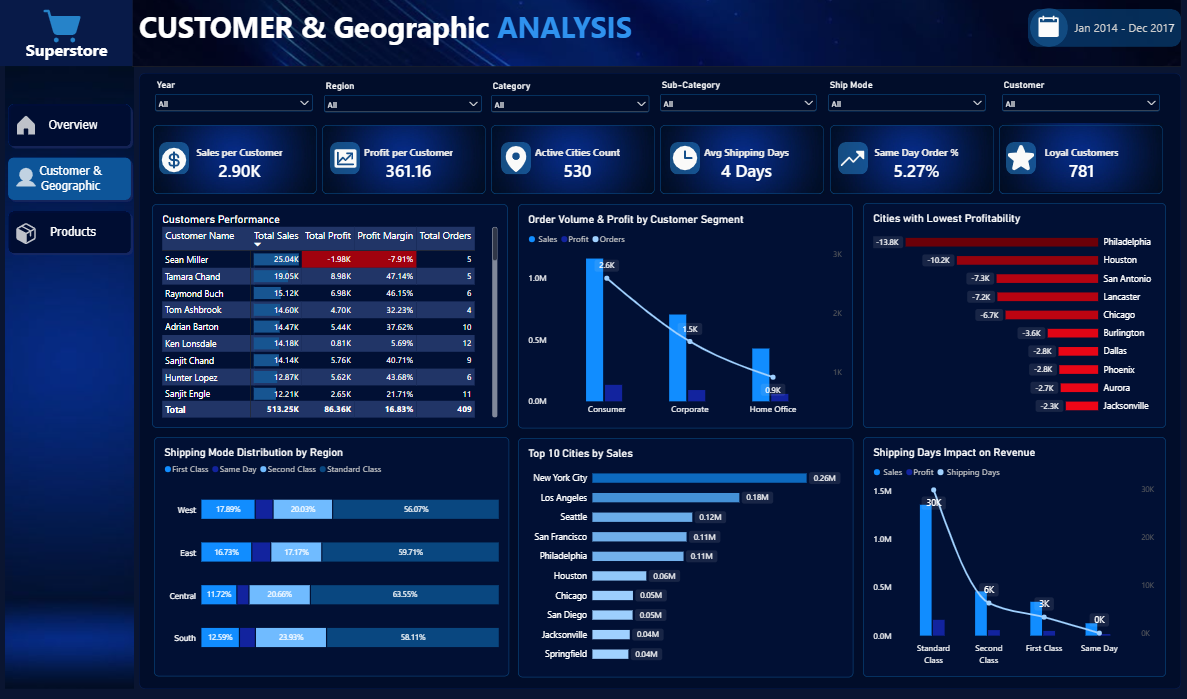

This screenshot's page, from the dashboard's own definition file:
{"tool":"powerbi","page":{"name":"Customer & Geographic","canvas":[1980,1170],"ordinal":1},"visuals":[{"type":"image","box":[7.8,112.3,215.1,1038.3],"z":0},{"type":"shape","box":[231.7,123.3,1736.7,1026.7],"z":1000},{"type":"image","box":[1102.3,210.5,273,115],"z":2000},{"type":"image","box":[1665.1,207.4,273,115],"z":3000},{"type":"image","box":[818.5,210.5,273,115],"z":4000},{"type":"image","box":[1382.9,210.5,273,115],"z":5000},{"type":"image","box":[536.3,210.5,273,115],"z":6000},{"type":"image","box":[255.7,210.5,273,115],"z":7000},{"type":"pageNavigator","box":[8.6,170,215.1,261.9],"z":8000},{"type":"image","box":[220.4,0,1748.6,112.6],"z":9000},{"type":"textbox","box":[231.4,12.7,825.9,111],"z":10000},{"type":"shape","box":[0,0,220.8,111.8],"z":11000},{"type":"textbox","box":[36.7,67.2,148.9,44.1],"z":12000},{"type":"image","box":[22.9,12.2,162,67.2],"z":13000},{"type":"shape","box":[1713.7,15.9,255.2,63.4],"z":14000},{"type":"shape","box":[1716.8,14.3,63.4,65],"z":15000},{"type":"image","box":[1710.5,25.4,74.9,44.3],"z":16000},{"type":"slicer","fields":{"Values":["Dim_Products.Category"]},"box":[813.2,134.7,274.3,65],"z":17000},{"type":"slicer","fields":{"Values":["Dim_Customers.Customer Name"]},"box":[1664.5,133.2,272.7,66.6],"z":18000},{"type":"slicer","fields":{"Values":["Dim_Location.Region"]},"box":[534.2,134.7,272.7,65],"z":19000},{"type":"slicer","fields":{"Values":["Dim_ShipMode.Ship Mode"]},"box":[1374.4,133.2,272.7,66.6],"z":20000},{"type":"slicer","fields":{"Values":["Dim_Products.Sub-Category"]},"box":[1095.4,133.2,271.1,66.6],"z":21000},{"type":"cardVisual","fields":{"Data":["Measures_Table.Sales per Customer"]},"box":[255.2,209.8,273,115.7],"z":22000},{"type":"cardVisual","fields":{"Data":["Measures_Table.Active Cities Count"]},"box":[818.9,210.1,273,115],"z":23000},{"type":"cardVisual","fields":{"Data":["Measures_Table.Profit per Customer"]},"box":[537.1,210,273,115],"z":24000},{"type":"cardVisual","fields":{"Data":["Measures_Table.Avg Shipping Days"]},"box":[1100.8,210.3,273,115],"z":25000},{"type":"cardVisual","fields":{"Data":["Measures_Table.Same Day Order %"]},"box":[1382.7,210.4,273,115],"z":26000},{"type":"cardVisual","fields":{"Data":["Measures_Table.Loyal Customers"]},"box":[1664.5,209.3,273,115.7],"z":27000},{"type":"slicer","fields":{"Values":["Dim_Date.Year"]},"box":[253.6,133.2,272.7,66.6],"z":28000},{"type":"pivotTable","title":"Customers Performance","fields":{"Rows":["Dim_Customers.Customer Name"],"Values":["Measures_Table.Total Sales","Measures_Table.Total Profit","Measures_Table.Profit Margin","Measures_Table.Total Orders"]},"box":[253.3,341.4,593.4,373.4],"z":29000},{"type":"clusteredBarChart","title":"Top 10 Cities by Sales","fields":{"Category":["Dim_Location.City"],"Y":["Measures_Table.Total Sales"]},"box":[863.8,731.1,558.8,398.9],"z":30000},{"type":"textbox","box":[1780.3,34.9,188.6,36.5],"z":31000},{"type":"clusteredBarChart","title":"Cities with Lowest Profitability","fields":{"Category":["Dim_Location.City"],"Y":["Measures_Table.Total Profit"]},"box":[1438.3,339.8,504.9,375.3],"z":32000},{"type":"hundredPercentStackedBarChart","title":"Shipping Mode Distribution by Region","fields":{"Category":["Dim_Location.Region"],"Series":["Dim_ShipMode.Ship Mode"],"Y":["Measures_Table.Total Sales"]},"box":[256.5,730.8,591.6,399.3],"z":33000},{"type":"lineClusteredColumnComboChart","title":"Shipping Days Impact on Revenue ","fields":{"Category":["Dim_ShipMode.Ship Mode"],"Y":["Measures_Table.Total Sales","Measures_Table.Total Profit"],"Y2":["Sum(Fact_SuperStore_Data.Shipping Days)"]},"box":[1438.2,729.9,504.7,400.1],"z":34000},{"type":"lineClusteredColumnComboChart","title":"Order Volume & Profit by Customer Segment","fields":{"Category":["Dim_Customers.Segment"],"Y":["Measures_Table.Total Sales","Measures_Table.Total Profit"],"Y2":["Measures_Table.Total Orders"]},"box":[863.4,341.1,558.1,373.9],"z":35000},{"type":"shape","box":[550,238.6,50,54.3],"z":36000},{"type":"shape","box":[1677.1,238.6,50,54.3],"z":37000},{"type":"shape","box":[1397.1,238.6,50,54.3],"z":38000},{"type":"shape","box":[1117.1,238.6,50,54.3],"z":39000},{"type":"shape","box":[834.3,238.6,50,54.3],"z":40000},{"type":"shape","box":[265.7,238.6,50,54.3],"z":41000},{"type":"image","box":[834.3,241.4,50,50],"z":42000},{"type":"image","box":[1676.7,240,50,50],"z":43000},{"type":"image","box":[1117.1,240,50,50],"z":44000},{"type":"image","box":[265.7,242.9,50,50],"z":45000},{"type":"image","box":[552.9,238.6,45,55],"z":46000},{"type":"image","box":[1398.5,241.7,45,50],"z":47000},{"type":"image","box":[22.9,271.4,40,52.9],"z":48000},{"type":"image","box":[22.9,365.7,40,52],"z":49000},{"type":"image","box":[22.9,184.3,40,52],"z":50000}]}

Visuals, with their boxes in screenshot pixels (x1, y1, x2, y2), scaled from the page's 1980x1170 canvas onto the 1187x699 screenshot:
image: [left=5, top=67, right=134, bottom=687]
shape: [left=139, top=74, right=1180, bottom=687]
image: [left=661, top=126, right=824, bottom=194]
image: [left=998, top=124, right=1162, bottom=193]
image: [left=491, top=126, right=654, bottom=194]
image: [left=829, top=126, right=993, bottom=194]
image: [left=322, top=126, right=485, bottom=194]
image: [left=153, top=126, right=317, bottom=194]
pageNavigator: [left=5, top=102, right=134, bottom=258]
image: [left=132, top=0, right=1180, bottom=67]
textbox: [left=139, top=8, right=634, bottom=74]
shape: [left=0, top=0, right=132, bottom=67]
textbox: [left=22, top=40, right=111, bottom=66]
image: [left=14, top=7, right=111, bottom=47]
shape: [left=1027, top=9, right=1180, bottom=47]
shape: [left=1029, top=9, right=1067, bottom=47]
image: [left=1025, top=15, right=1070, bottom=42]
slicer - Dim_Products.Category: [left=488, top=80, right=652, bottom=119]
slicer - Dim_Customers.Customer Name: [left=998, top=80, right=1161, bottom=119]
slicer - Dim_Location.Region: [left=320, top=80, right=484, bottom=119]
slicer - Dim_ShipMode.Ship Mode: [left=824, top=80, right=987, bottom=119]
slicer - Dim_Products.Sub-Category: [left=657, top=80, right=819, bottom=119]
cardVisual - Measures_Table.Sales per Customer: [left=153, top=125, right=317, bottom=194]
cardVisual - Measures_Table.Active Cities Count: [left=491, top=126, right=655, bottom=194]
cardVisual - Measures_Table.Profit per Customer: [left=322, top=125, right=486, bottom=194]
cardVisual - Measures_Table.Avg Shipping Days: [left=660, top=126, right=824, bottom=194]
cardVisual - Measures_Table.Same Day Order %: [left=829, top=126, right=993, bottom=194]
cardVisual - Measures_Table.Loyal Customers: [left=998, top=125, right=1162, bottom=194]
slicer - Dim_Date.Year: [left=152, top=80, right=316, bottom=119]
"Customers Performance" pivotTable: [left=152, top=204, right=508, bottom=427]
"Top 10 Cities by Sales" clusteredBarChart: [left=518, top=437, right=853, bottom=675]
textbox: [left=1067, top=21, right=1180, bottom=43]
"Cities with Lowest Profitability" clusteredBarChart: [left=862, top=203, right=1165, bottom=427]
"Shipping Mode Distribution by Region" hundredPercentStackedBarChart: [left=154, top=437, right=508, bottom=675]
"Shipping Days Impact on Revenue " lineClusteredColumnComboChart: [left=862, top=436, right=1165, bottom=675]
"Order Volume & Profit by Customer Segment" lineClusteredColumnComboChart: [left=518, top=204, right=852, bottom=427]
shape: [left=330, top=143, right=360, bottom=175]
shape: [left=1005, top=143, right=1035, bottom=175]
shape: [left=838, top=143, right=868, bottom=175]
shape: [left=670, top=143, right=700, bottom=175]
shape: [left=500, top=143, right=530, bottom=175]
shape: [left=159, top=143, right=189, bottom=175]
image: [left=500, top=144, right=530, bottom=174]
image: [left=1005, top=143, right=1035, bottom=173]
image: [left=670, top=143, right=700, bottom=173]
image: [left=159, top=145, right=189, bottom=175]
image: [left=331, top=143, right=358, bottom=175]
image: [left=838, top=144, right=865, bottom=174]
image: [left=14, top=162, right=38, bottom=194]
image: [left=14, top=218, right=38, bottom=250]
image: [left=14, top=110, right=38, bottom=141]
